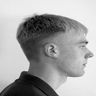ear: (40, 40, 64, 64)
